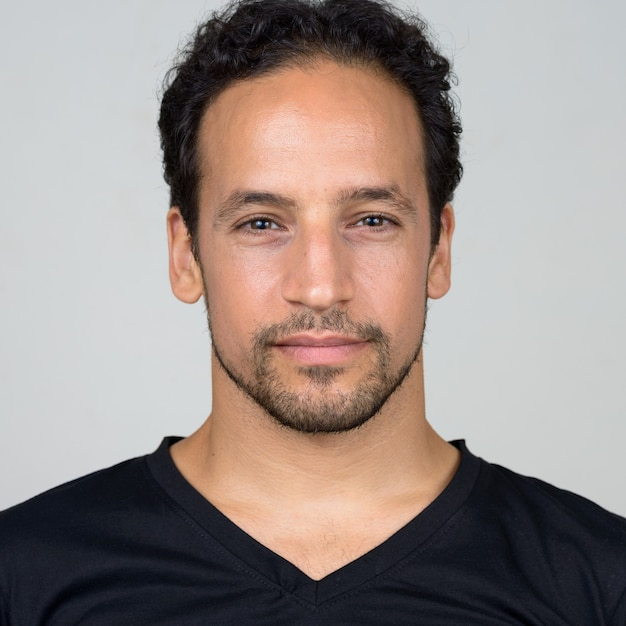young: (150, 14, 466, 412)
